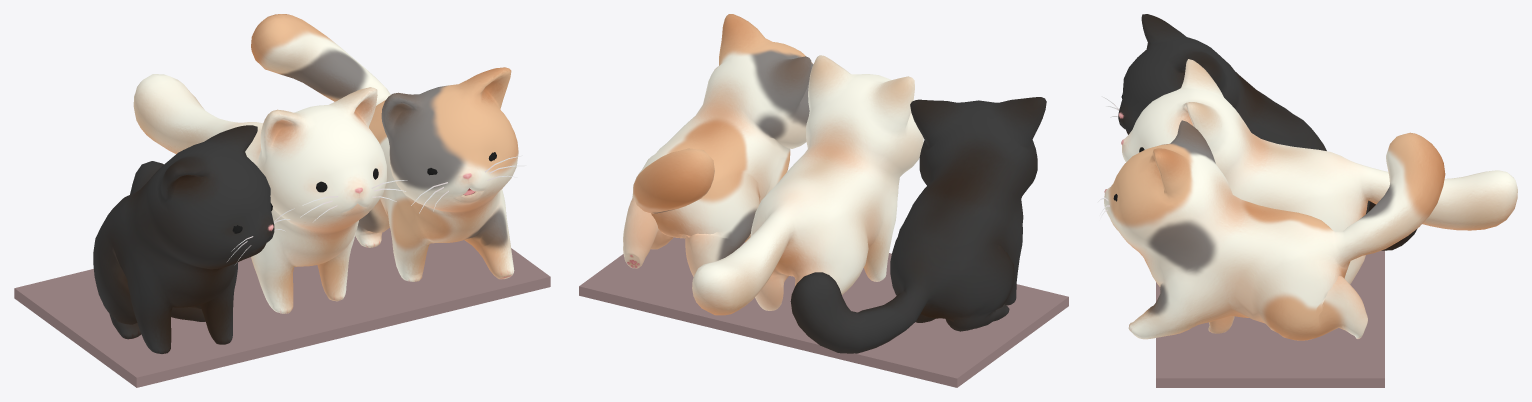
Rendered from chonky_cat_trio3.glb.
The picture shows the model from 3 angles, left to right: view 1: azimuth 30°, elevation 25°; view 2: azimuth 150°, elevation 25°; view 3: azimuth 270°, elevation 25°; orthographic projection. The views are drawn at different scales.
Parts seen in each view (by area): view 1: fat_cat_white1, pCube1, fat_cat_white2, fat_cat_white; view 2: fat_cat_white2, fat_cat_white, fat_cat_white1, pCube1; view 3: fat_cat_white1, fat_cat_white, pCube1, fat_cat_white2.
Part boxes in pixels (bbox=[...]): fat_cat_white1: bbox=[251, 14, 526, 281]; pCube1: bbox=[14, 228, 550, 387]; fat_cat_white2: bbox=[93, 125, 294, 353]; fat_cat_white: bbox=[133, 74, 407, 313]; fat_cat_white2: bbox=[790, 97, 1046, 353]; fat_cat_white: bbox=[692, 55, 923, 315]; fat_cat_white1: bbox=[623, 14, 813, 276]; pCube1: bbox=[579, 237, 1068, 387]; fat_cat_white1: bbox=[1097, 120, 1445, 340]; fat_cat_white: bbox=[1121, 59, 1517, 284]; pCube1: bbox=[1156, 250, 1384, 387]; fat_cat_white2: bbox=[1101, 14, 1417, 250].
Bounding box in the file's own units: 1.16 × 0.6137 × 1.09.
Materials: 4 (3 with a texture image).
